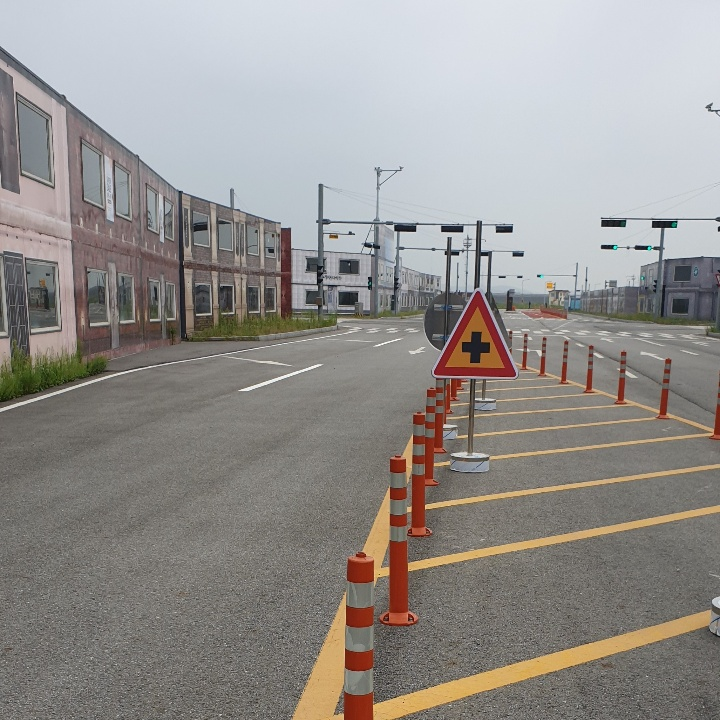inter: (456, 329, 495, 369)
